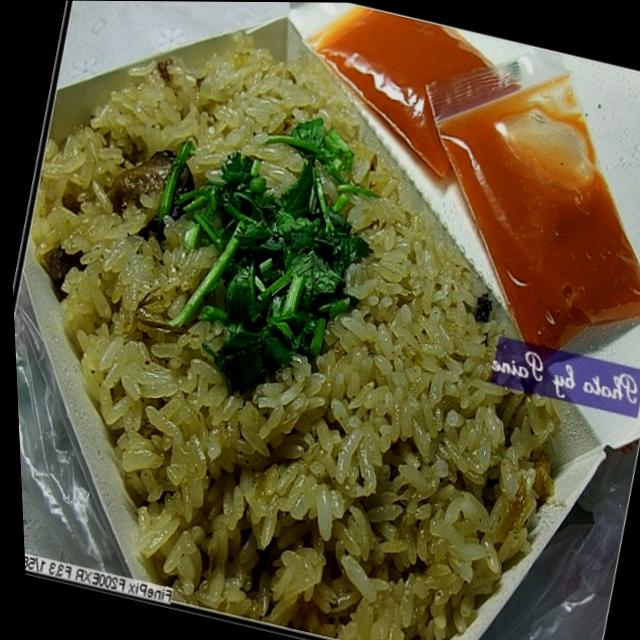米饭主食: (0, 2, 635, 640)
